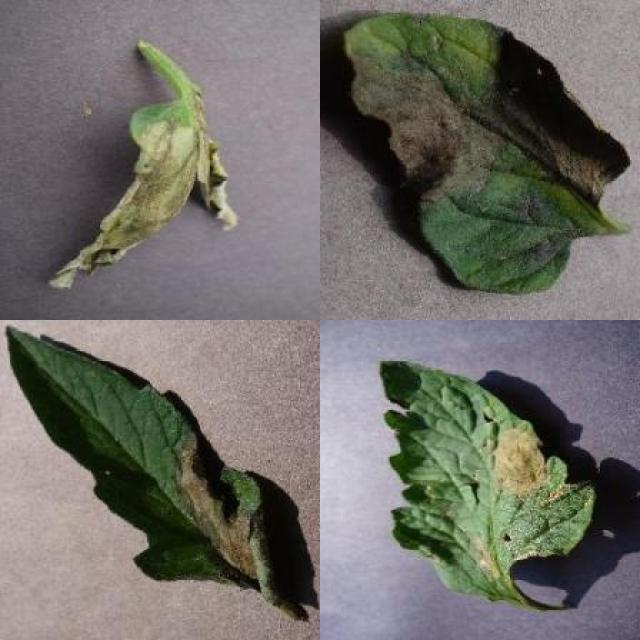Late Blight: (4, 322, 309, 625), (342, 12, 632, 298), (382, 354, 598, 602), (47, 84, 240, 292)
